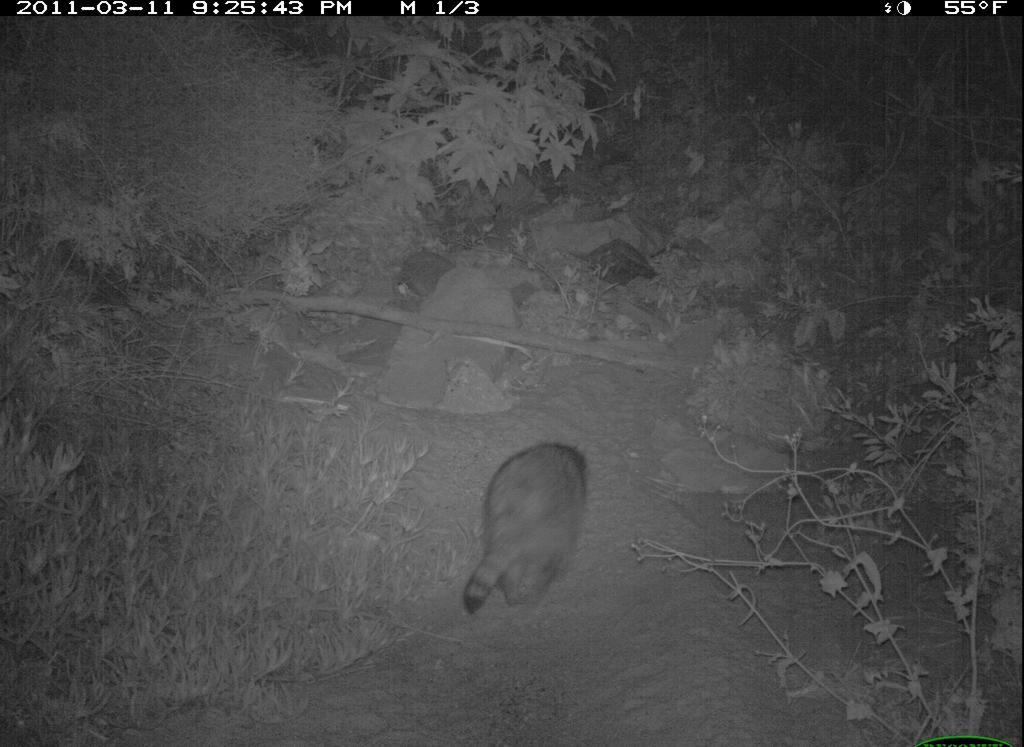raccoon: (455, 438, 601, 617)
